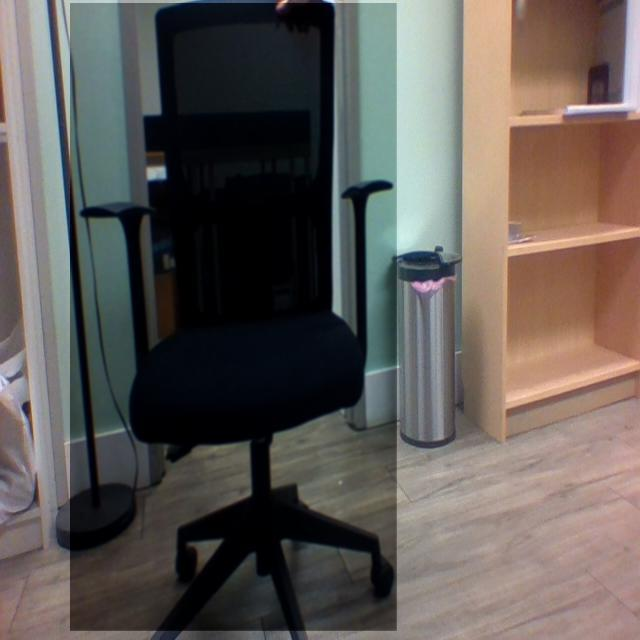chair: (81, 0, 393, 640)
